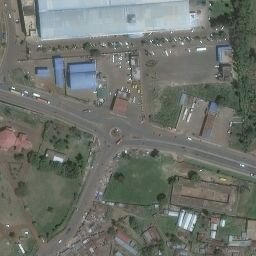tree: (188, 171, 200, 182), (215, 95, 225, 106), (157, 193, 166, 204), (115, 174, 125, 183), (151, 149, 160, 158), (90, 49, 98, 57), (107, 227, 115, 235), (14, 153, 23, 160), (83, 42, 90, 49), (48, 207, 53, 212)
